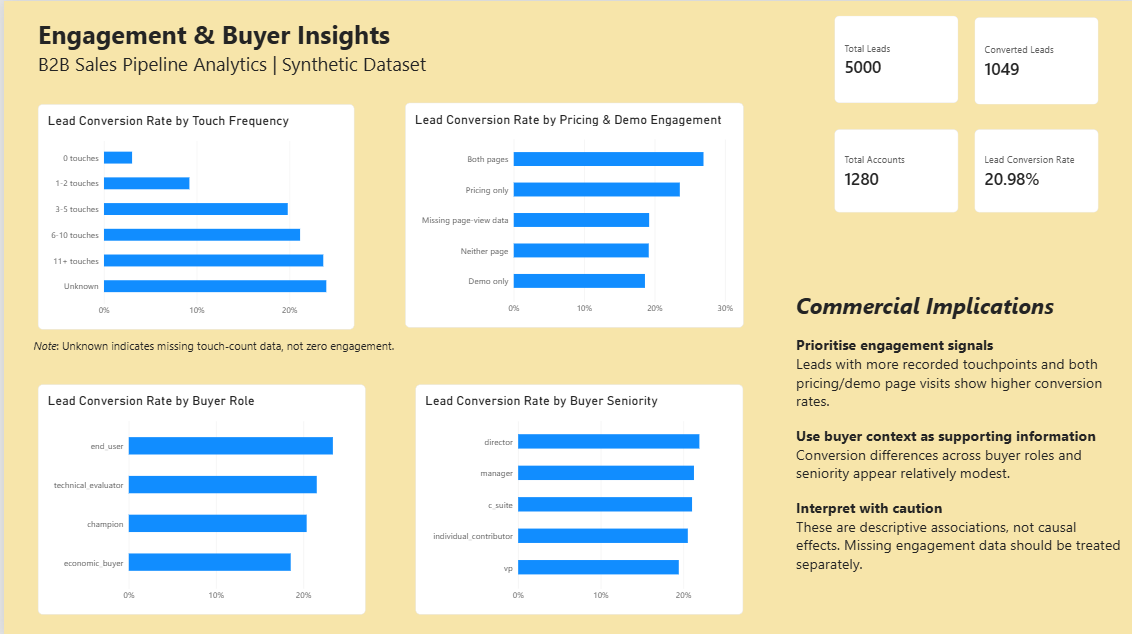

What the dashboard file says about the page in this screenshot:
{"tool":"powerbi","page":{"name":"Page 2","canvas":[1920,1080],"ordinal":1},"visuals":[{"type":"cardVisual","fields":{"Data":["analytics vw_leads_reporting.Total Leads"]},"box":[1408,26,210,148],"z":0},{"type":"cardVisual","fields":{"Data":["analytics vw_accounts.Converted Leads"]},"box":[1644,28,210,148.6],"z":1000},{"type":"cardVisual","fields":{"Data":["analytics vw_accounts.Total Accounts"]},"box":[1408,218,210,141.4],"z":2000},{"type":"cardVisual","fields":{"Data":["analytics vw_leads_reporting.Lead Conversion Rate"]},"box":[1644,218,210,141.4],"z":3000},{"type":"textbox","box":[57.5,27.5,917.5,112.5],"z":4000},{"type":"textbox","box":[1342,490,552,590],"z":6000},{"type":"clusteredBarChart","title":"Lead Conversion Rate by Touch Frequency","fields":{"Category":["analytics vw_leads_reporting.Touch Frequency Band"],"Y":["analytics vw_leads_reporting.Lead Conversion Rate"]},"box":[57.5,175,536,382],"z":7000},{"type":"clusteredBarChart","title":"Lead Conversion Rate by Pricing & Demo Engagement","fields":{"Category":["analytics vw_leads_reporting.page_pattern"],"Y":["analytics vw_leads_reporting.Lead Conversion Rate"]},"box":[680,172.5,573.3,381.1],"z":8000},{"type":"clusteredBarChart","title":"Lead Conversion Rate by Buyer Seniority","fields":{"Category":["analytics vw_leads_reporting.seniority"],"Y":["analytics vw_leads_reporting.Lead Conversion Rate"]},"box":[697.5,650,555,390],"z":9000},{"type":"clusteredBarChart","title":"Lead Conversion Rate by Buyer Role","fields":{"Category":["analytics vw_leads_reporting.buyer_role"],"Y":["analytics vw_leads_reporting.Lead Conversion Rate"]},"box":[57.5,650,555,390],"z":10000},{"type":"textbox","box":[48.9,568.9,648.9,67.8],"z":11000}]}

Visuals, with their boxes in screenshot pixels (x1, y1, x2, y2), scaled from the page's 1920x1080 canvas onto the 1132x634 screenshot:
cardVisual - analytics vw_leads_reporting.Total Leads: Rect(830, 15, 954, 102)
cardVisual - analytics vw_accounts.Converted Leads: Rect(969, 16, 1093, 104)
cardVisual - analytics vw_accounts.Total Accounts: Rect(830, 128, 954, 211)
cardVisual - analytics vw_leads_reporting.Lead Conversion Rate: Rect(969, 128, 1093, 211)
textbox: Rect(34, 16, 575, 82)
textbox: Rect(791, 288, 1117, 633)
"Lead Conversion Rate by Touch Frequency" clusteredBarChart: Rect(34, 103, 350, 327)
"Lead Conversion Rate by Pricing & Demo Engagement" clusteredBarChart: Rect(401, 101, 739, 325)
"Lead Conversion Rate by Buyer Seniority" clusteredBarChart: Rect(411, 382, 738, 611)
"Lead Conversion Rate by Buyer Role" clusteredBarChart: Rect(34, 382, 361, 611)
textbox: Rect(29, 334, 411, 374)
